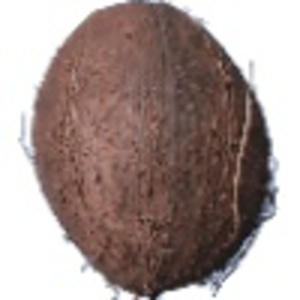coco: (20, 1, 279, 300)
